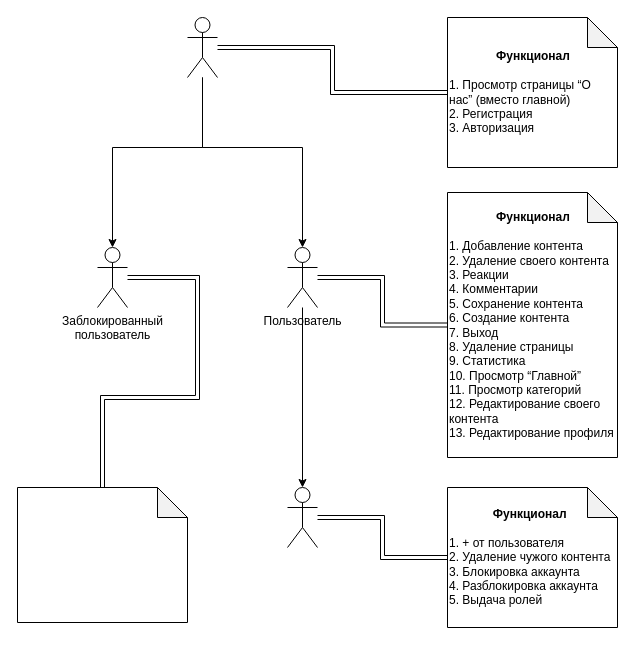
Some shapes in this 635 by 645 pixel diagram are drawn without their labels. Each missing label, with the centre of its shape:
Администратор (модератор): the point at 302,517
Не авторизированный пользователь: the point at 202,47
Функционал 1. Смотреть на плашку “Аккаунт заблокирован”: the point at 102,554
